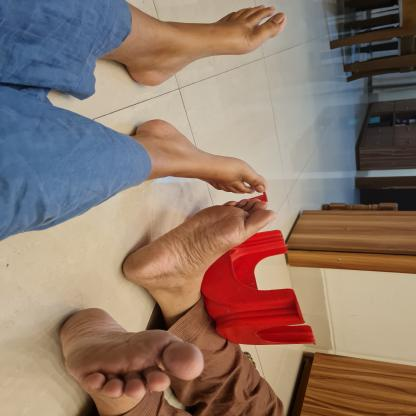leg: (115, 198, 282, 314), (50, 303, 209, 416), (100, 0, 293, 90), (126, 108, 274, 200)
